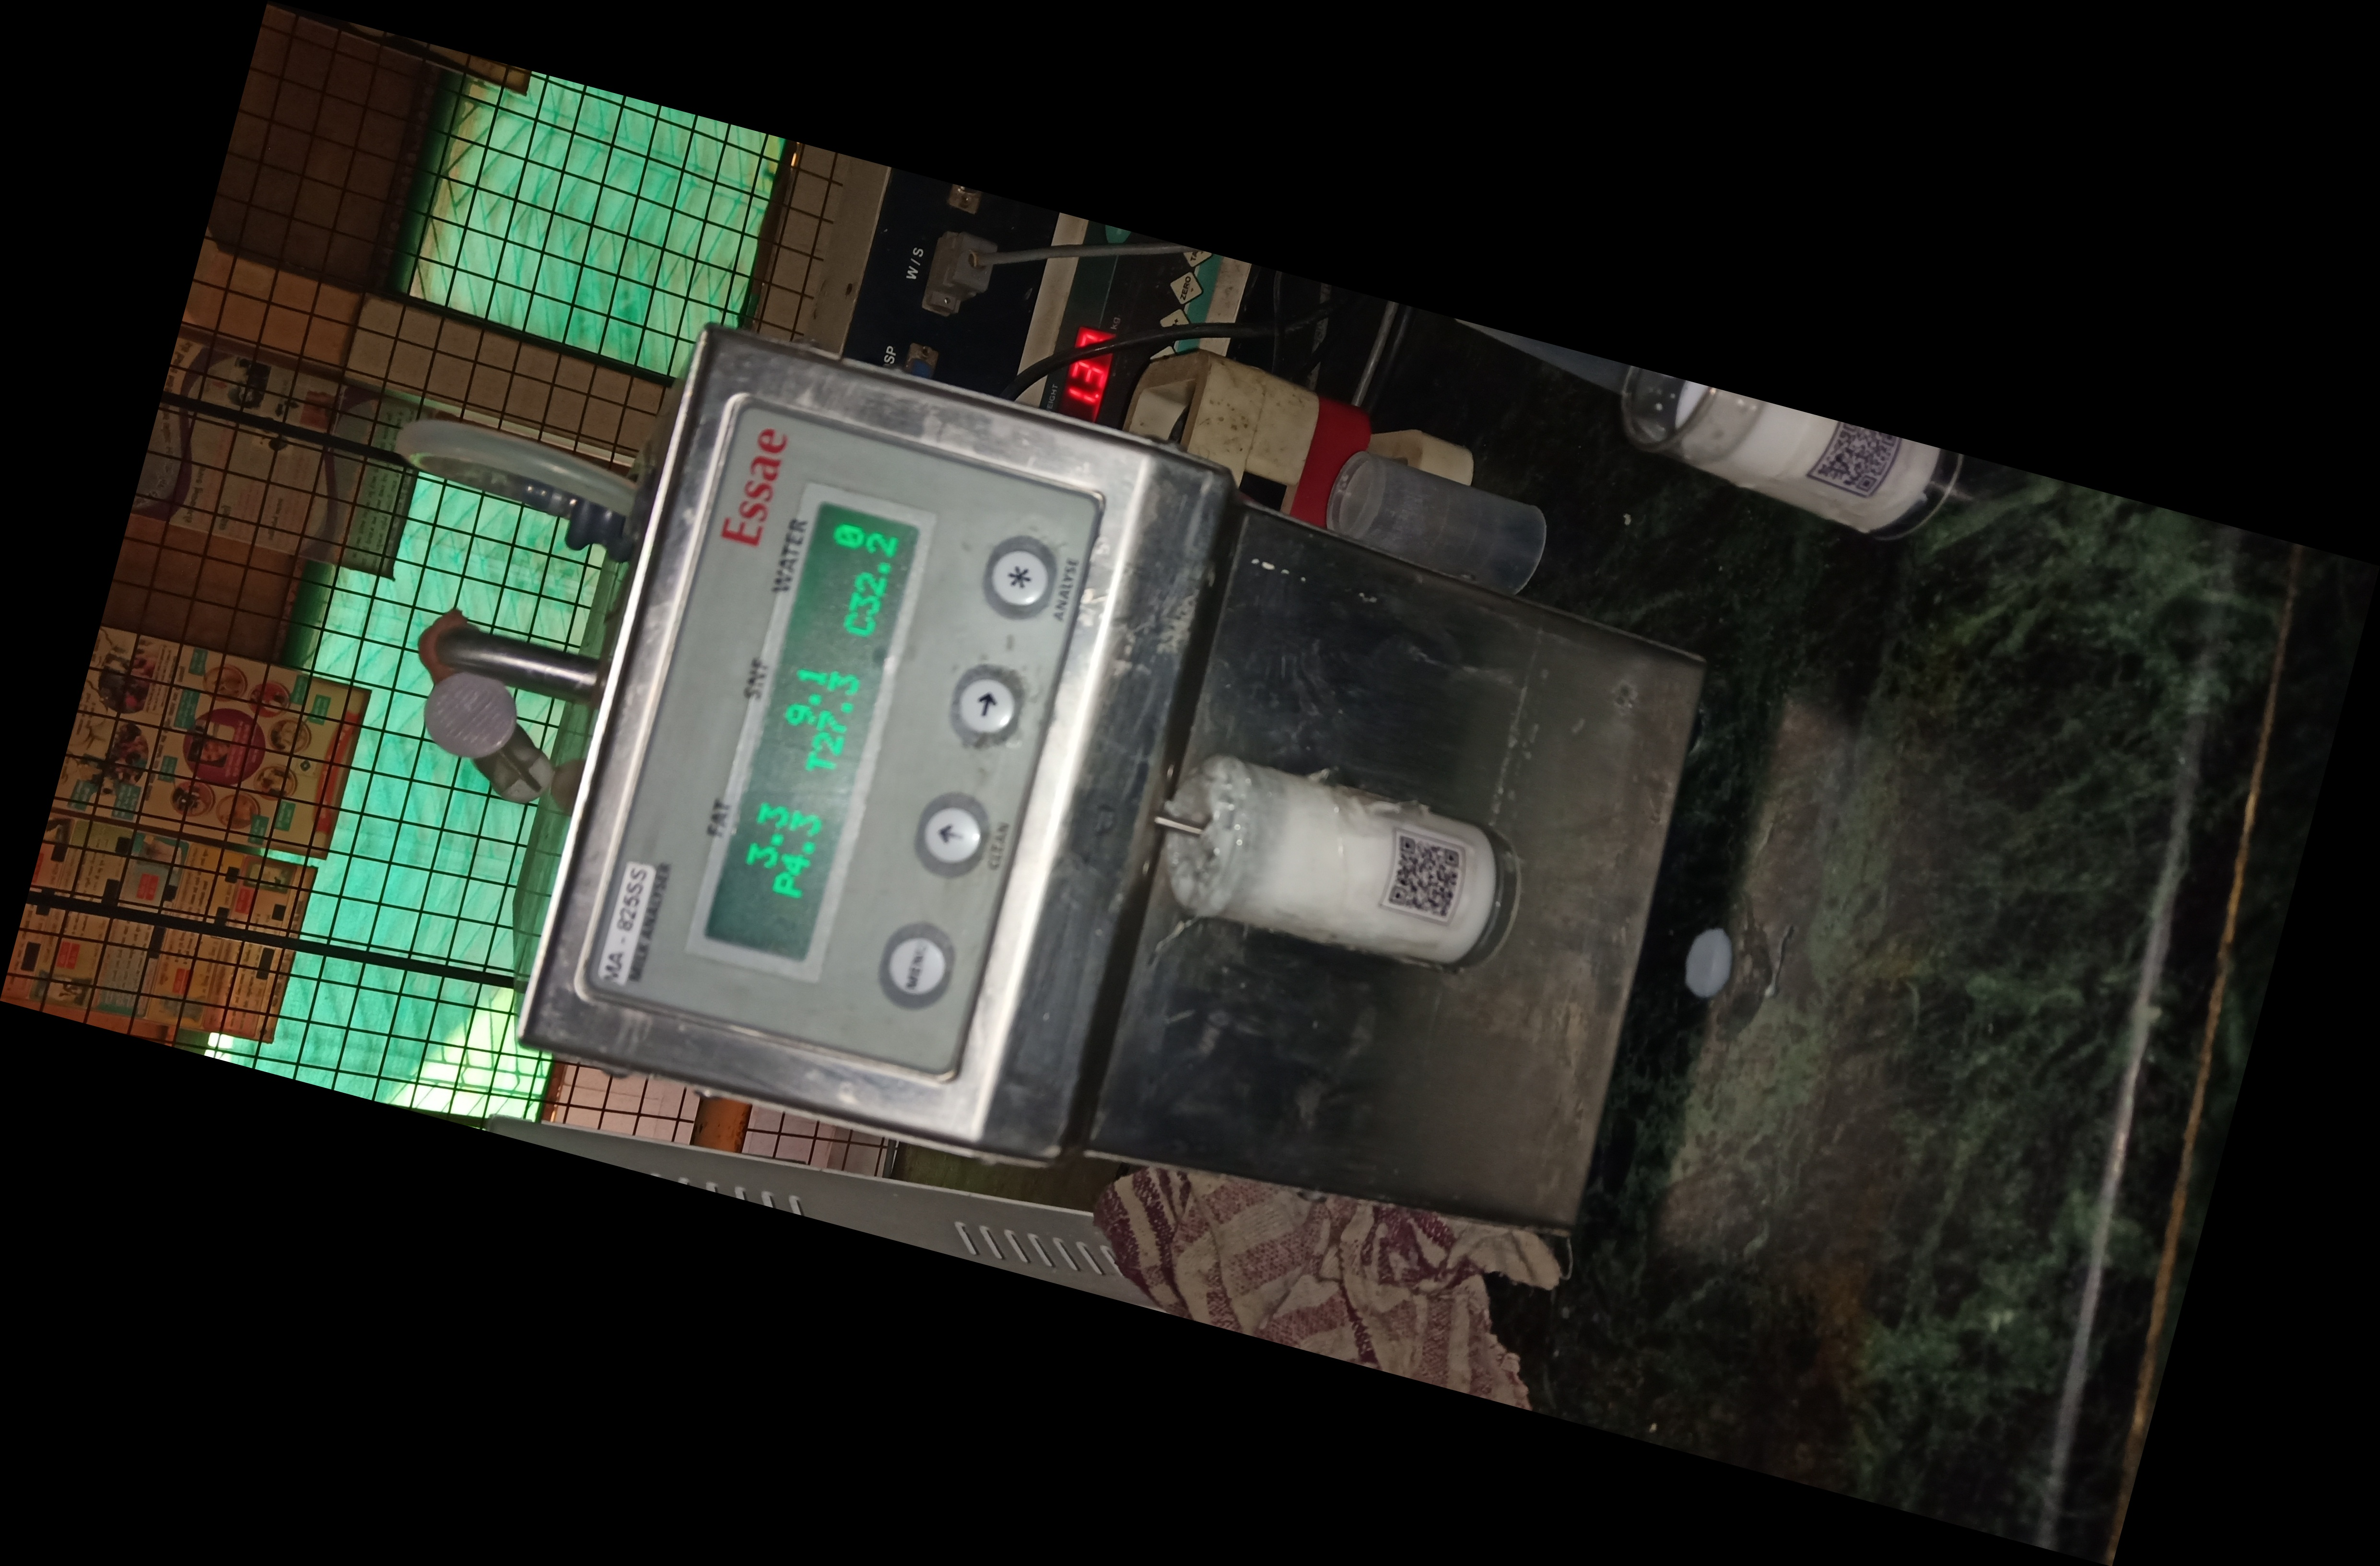lcd: (692, 481, 930, 987)
qr: (1795, 409, 1927, 521), (1382, 827, 1477, 925)
